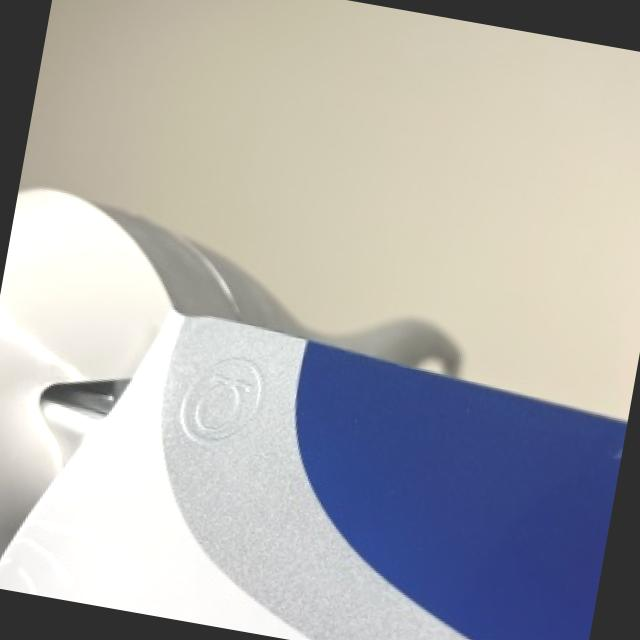healthy: (0, 187, 621, 640)
